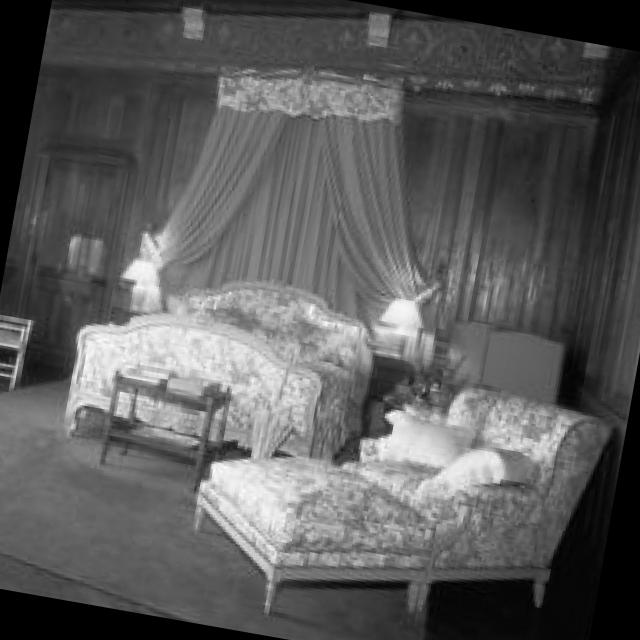bed -occluded-: (61, 280, 372, 451)
books crop: (118, 361, 163, 379)
bouquet: (410, 332, 466, 390)
box contants: (162, 372, 214, 388)
ceiling beam: (51, 0, 427, 14)
chaise lounge: (192, 386, 614, 609)
curtain crop: (140, 69, 428, 316)
door bars: (10, 152, 118, 359)
lamp crop: (374, 294, 420, 347), (121, 259, 152, 306)
night stand cabinet: (344, 355, 412, 448)
ottoman: (189, 454, 430, 599)
pillow occluded: (410, 442, 537, 489), (372, 409, 469, 459)
rug -partially obscured-: (0, 374, 418, 640)
small table part: (98, 356, 228, 482), (0, 312, 29, 385)
